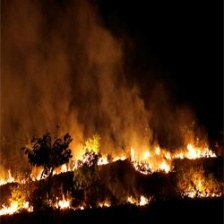fire: (1, 138, 224, 218)
smoke: (1, 12, 175, 126)
